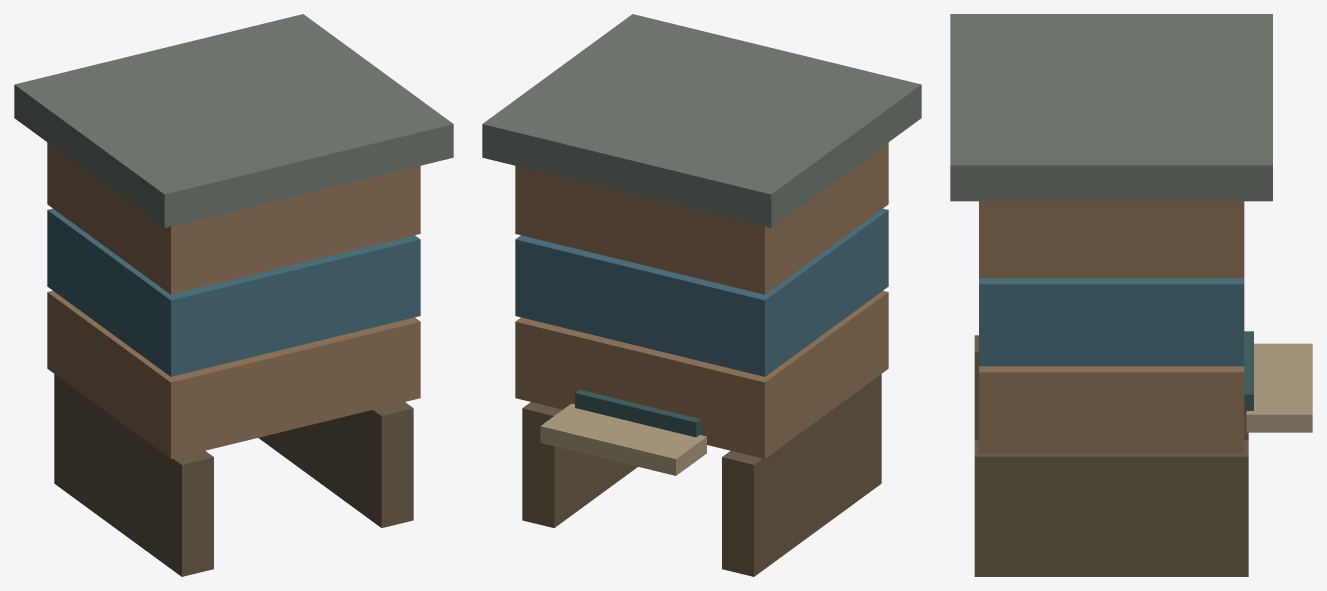
Rendered from ua_beehive.obj.
3 renders of one model, left to right at view 1: azimuth 30°, elevation 25°; view 2: azimuth 150°, elevation 25°; view 3: azimuth 270°, elevation 25°, orthographic. The views are drawn at different scales.
Parts seen in each view (by area): view 1: ua_beehive; view 2: ua_beehive; view 3: ua_beehive.
Part boxes in pixels (x1,y1,x2,y2): ua_beehive: [14, 14, 453, 576]; ua_beehive: [482, 14, 921, 576]; ua_beehive: [950, 14, 1312, 576].
Bounding box in the file's own units: 0.81 × 1.07 × 0.82.
